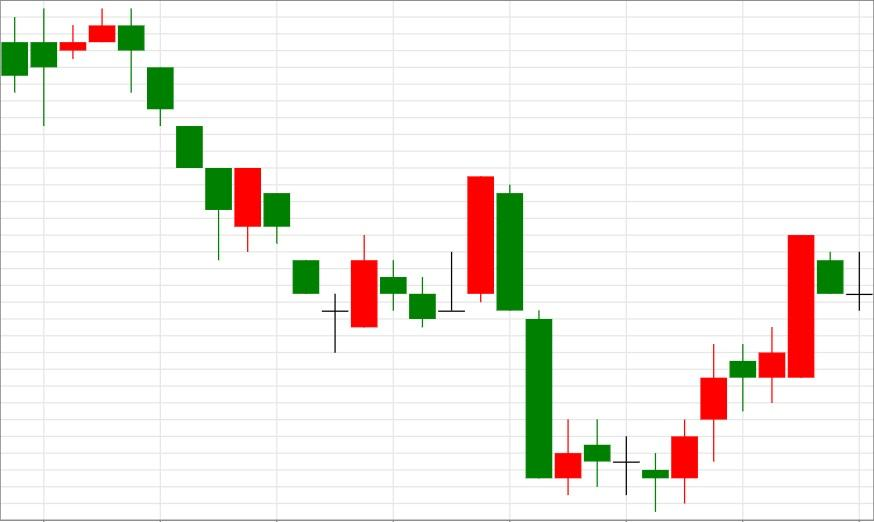bearish_engulfing_fall: (0, 9, 145, 126)
three_black_crows_fall: (0, 8, 204, 169)
